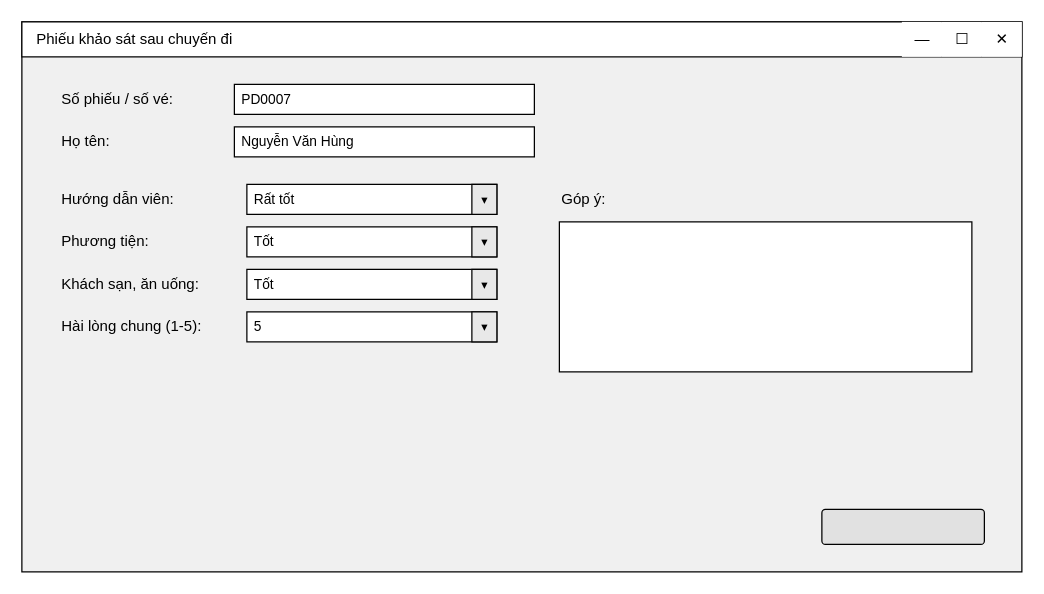
The diagram is 1044 pixels wide and 594 high, and some of its shapes have lost their labels. Each missing label, with the centre of its shape:
"Gửi khảo sát" goes at point (902, 526).
"Lịch trình hợp lý, HDV nhiệt tình." goes at point (765, 296).
